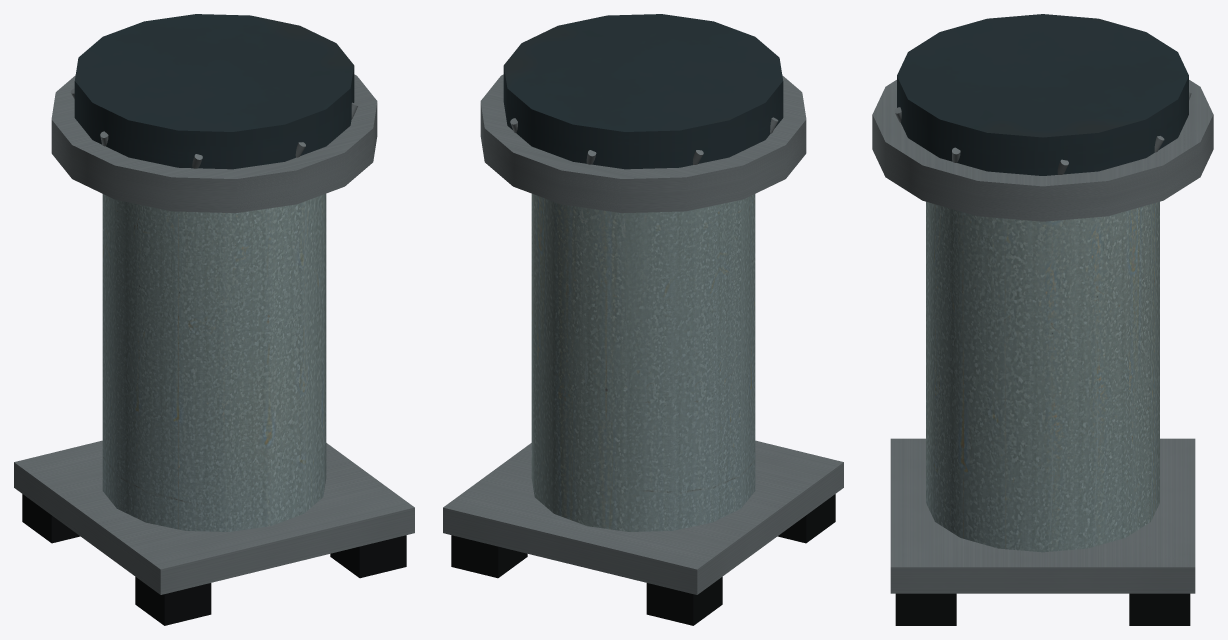
The model's file is NC_RoofExtractor_LOD1.fbx.
3 renders of one model, left to right at view 1: azimuth 30°, elevation 25°; view 2: azimuth 150°, elevation 25°; view 3: azimuth 270°, elevation 25°, orthographic. The views are drawn at different scales.
Visible parts, largest first — view 1: NC_RoofExtractor_LOD1; view 2: NC_RoofExtractor_LOD1; view 3: NC_RoofExtractor_LOD1.
Part boxes in pixels (box(x1,y1,x2,y2)): NC_RoofExtractor_LOD1: box(14, 14, 414, 625); NC_RoofExtractor_LOD1: box(443, 14, 843, 625); NC_RoofExtractor_LOD1: box(872, 14, 1213, 625).
Size of the model in its own units: 140 by 221 by 140.
